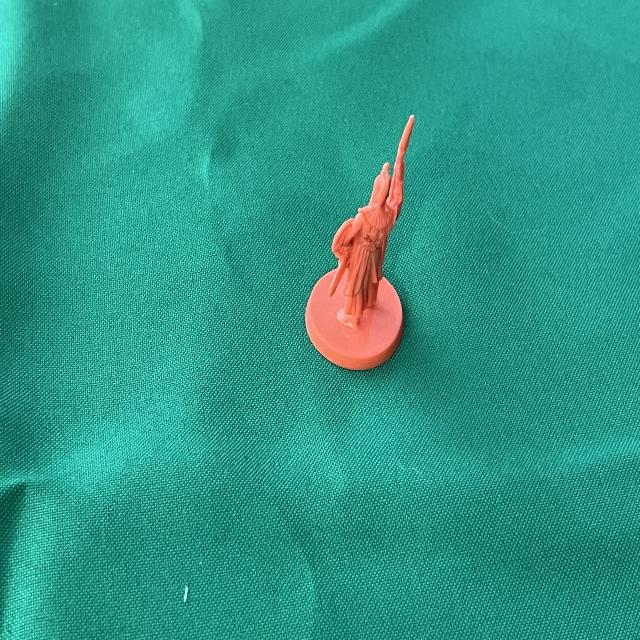amon_follower: (305, 115, 415, 370)
